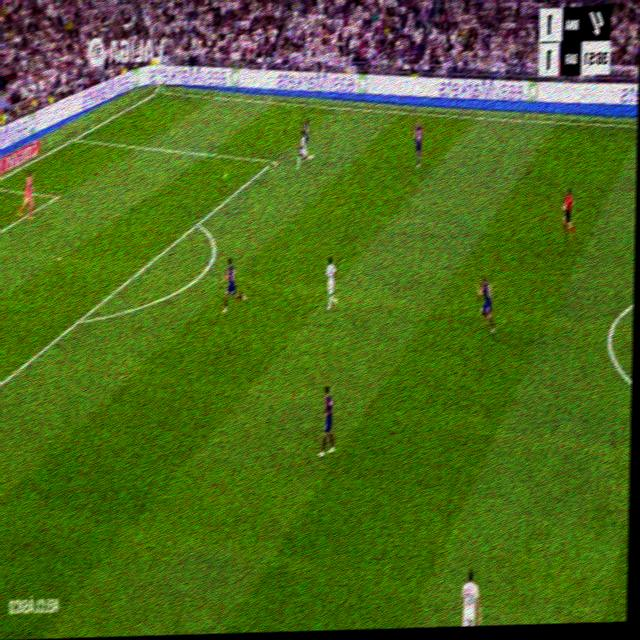bigarea_top_inner: (268, 151, 278, 171)
bigarea_top_outter: (70, 130, 80, 145)
bottom_arc_area_intersection: (74, 308, 86, 332)
corner: (154, 85, 165, 97)
smallarea_top_inner: (51, 187, 62, 205)
top_arc_area_intersection: (192, 213, 203, 232)
